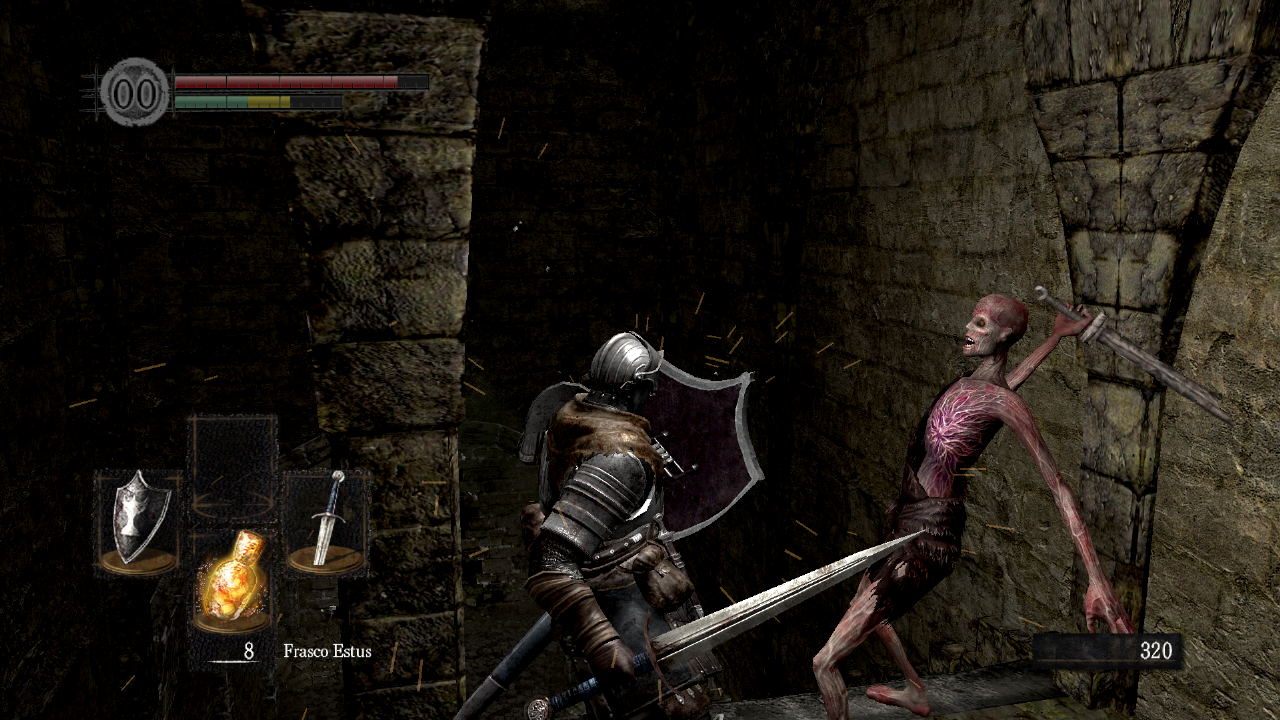hollow: (812, 295, 1134, 720)
player: (520, 327, 727, 720)
